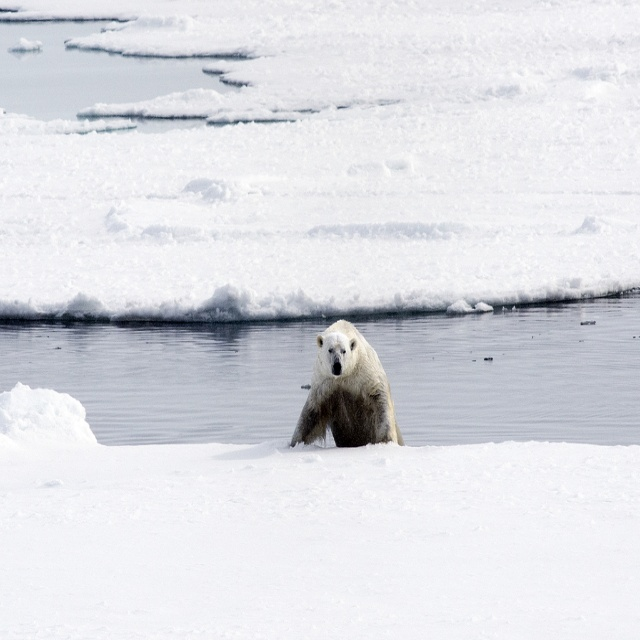Polar bear: (287, 316, 406, 445)
